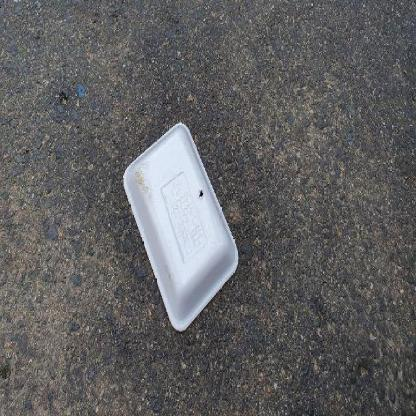Glass Cup: (123, 121, 238, 332), (123, 122, 238, 331)
